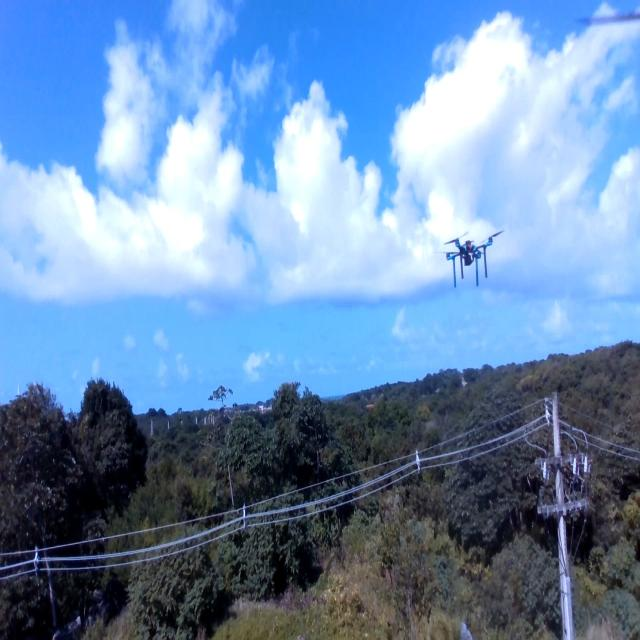-uav-: (431, 212, 504, 296)
